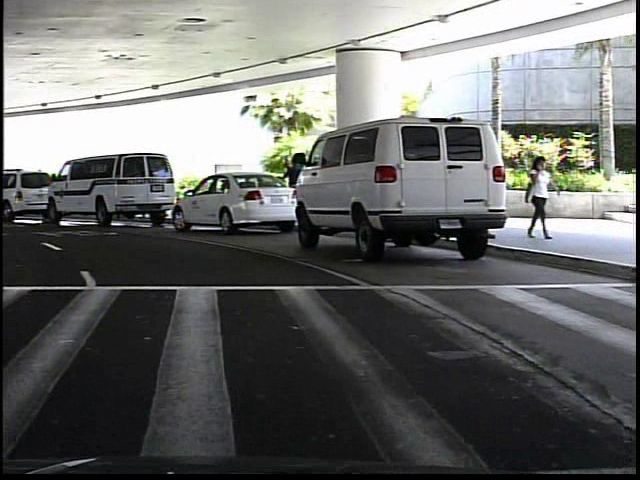person: (521, 148, 559, 243)
